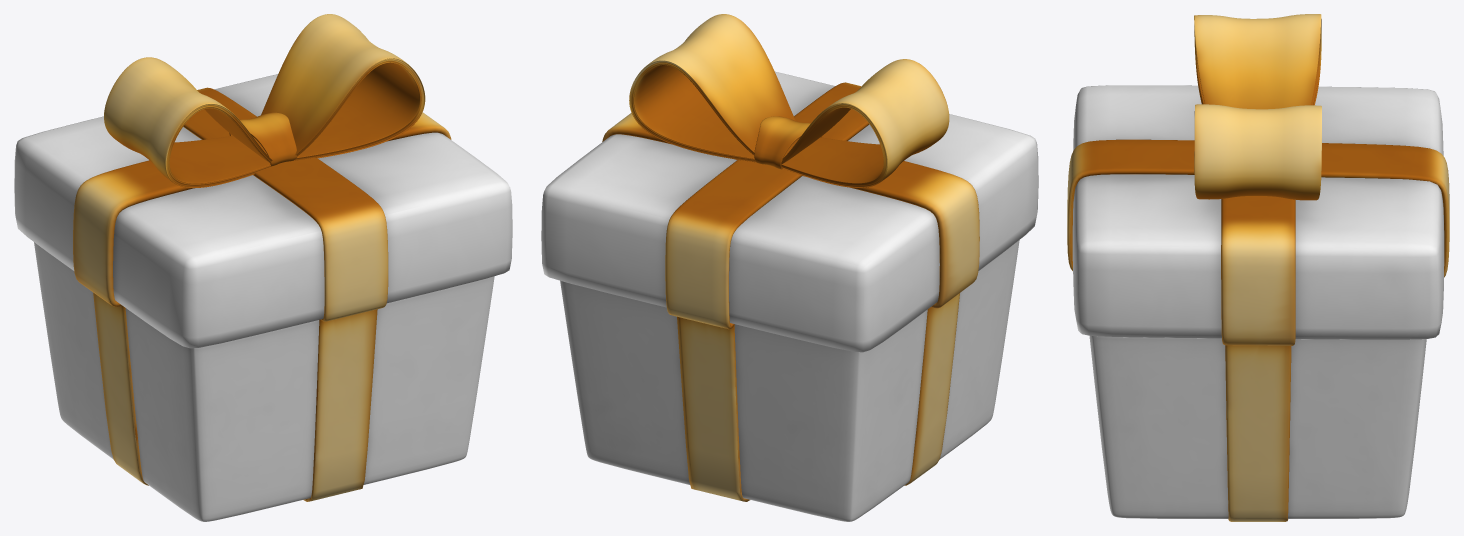
Rendered from gift.glb.
The picture shows the model from 3 angles, left to right: view 1: azimuth 30°, elevation 25°; view 2: azimuth 150°, elevation 25°; view 3: azimuth 270°, elevation 25°; orthographic projection. The views are drawn at different scales.
Parts seen in each view (by area): view 1: GIFT_BOX; view 2: GIFT_BOX; view 3: GIFT_BOX.
Part boxes in pixels (left/top/right/bottom): GIFT_BOX: left=14, top=14, right=512, bottom=521; GIFT_BOX: left=541, top=14, right=1038, bottom=521; GIFT_BOX: left=1067, top=14, right=1449, bottom=521.
Size of the model in its own units: 0.3081 by 0.3341 by 0.287.
1 material, 1 textured.
